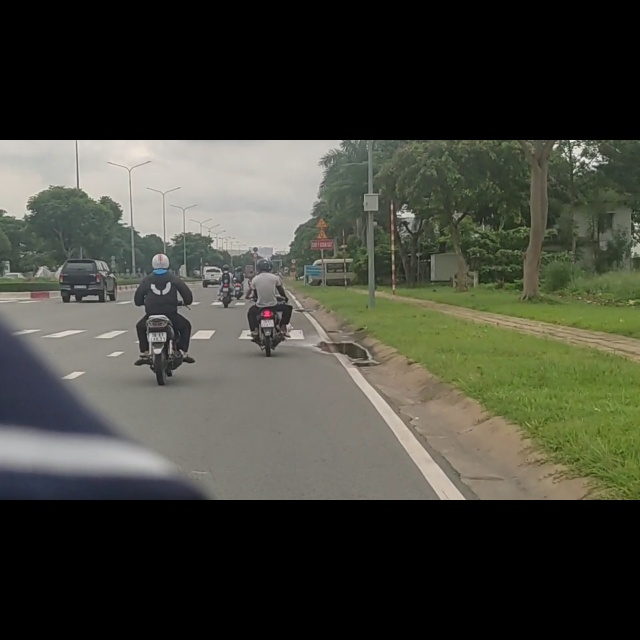bien_nguy_hiem: (315, 137, 329, 156), (316, 159, 330, 177), (253, 190, 259, 199)
